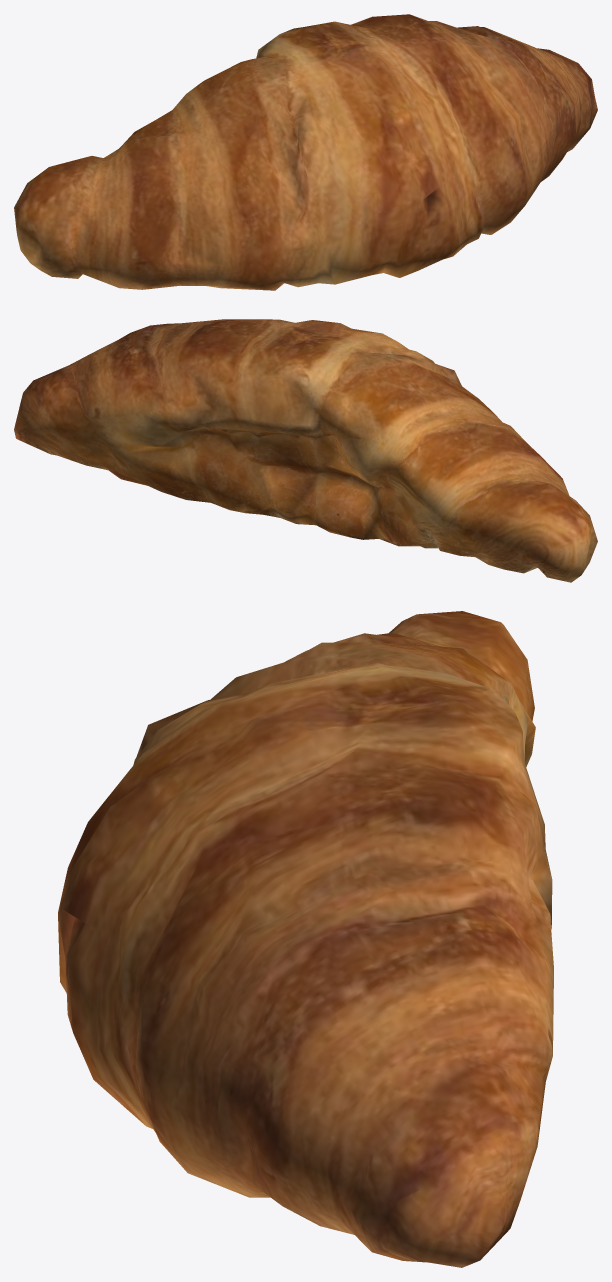
The model's file is croissant.glb.
3 renders of one model, top to bottom at view 1: azimuth 30°, elevation 25°; view 2: azimuth 150°, elevation 25°; view 3: azimuth 270°, elevation 25°, orthographic. The views are drawn at different scales.
Visible parts, largest first — view 1: croissant; view 2: croissant; view 3: croissant.
Boxes of the visible parts, bbox=[...] form: croissant: bbox=[14, 14, 597, 290]; croissant: bbox=[14, 319, 597, 582]; croissant: bbox=[58, 611, 553, 1267].
Size of the model in its own units: 0.2001 by 0.062 by 0.0753.
Materials: 1 (1 with a texture image).
